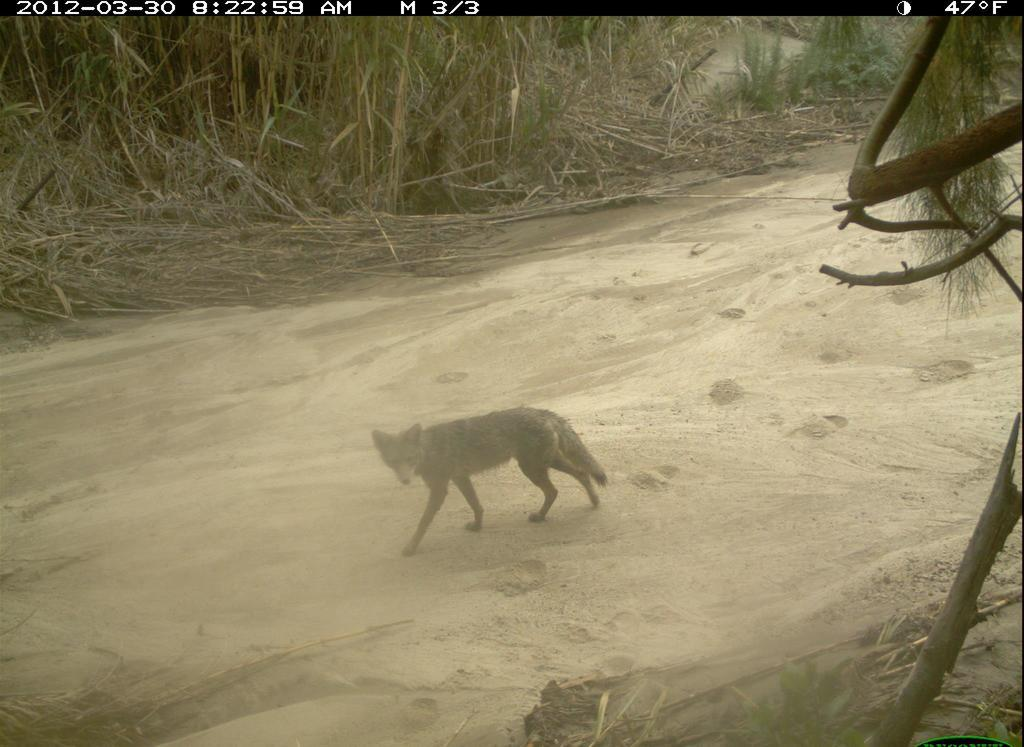coyote: (368, 402, 607, 550)
